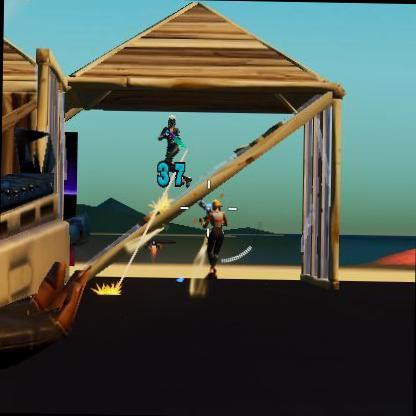person: (198, 202, 228, 274), (154, 112, 186, 178)
